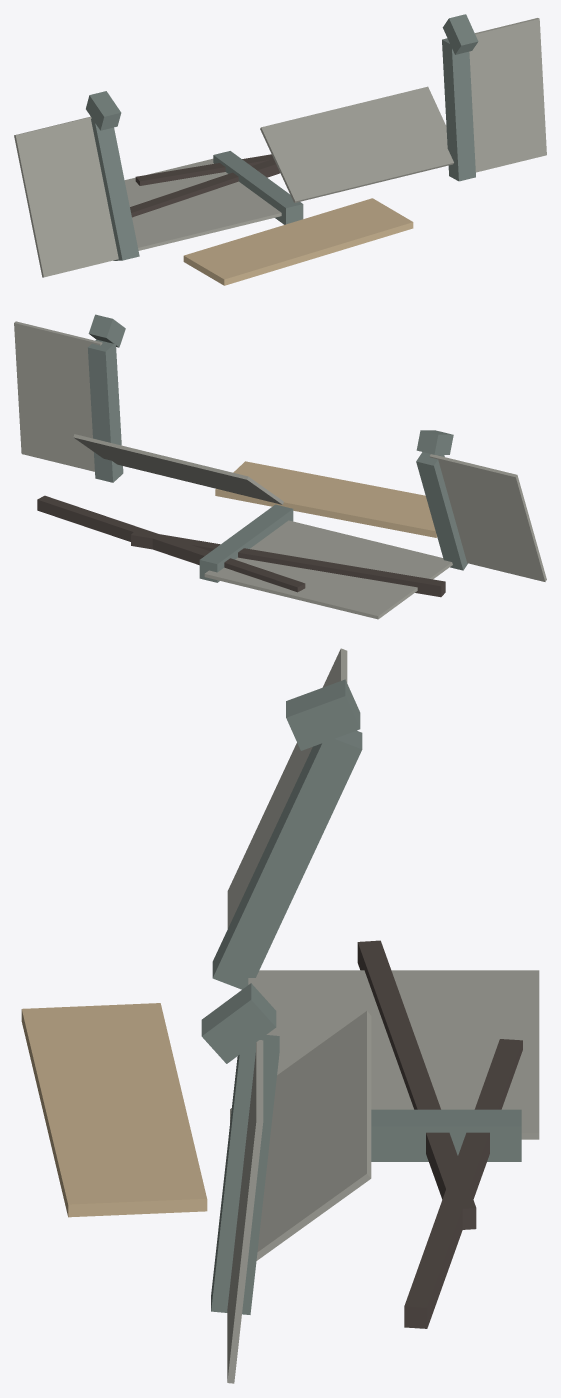
Rendered from SM_VallaBetera_Malla_e3_MuyDanada_LOD1.fbx.
The picture shows the model from 3 angles, top to bottom: view 1: azimuth 30°, elevation 25°; view 2: azimuth 150°, elevation 25°; view 3: azimuth 270°, elevation 25°; orthographic projection. The views are drawn at different scales.
Visible parts, largest first — view 1: SM_valla_estados_v3_LOD1; view 2: SM_valla_estados_v3_LOD1; view 3: SM_valla_estados_v3_LOD1.
Part boxes in pixels (bbox=[...]): SM_valla_estados_v3_LOD1: bbox=[14, 14, 546, 285]; SM_valla_estados_v3_LOD1: bbox=[14, 314, 546, 619]; SM_valla_estados_v3_LOD1: bbox=[21, 648, 539, 1383].
Size of the model in its own units: 9.98 by 3.09 by 4.45.
